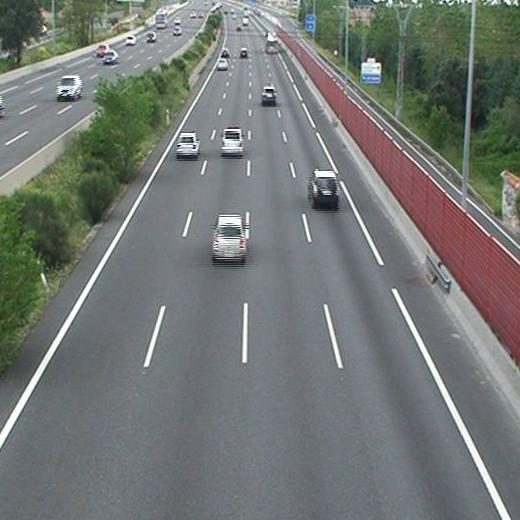car: (212, 215, 246, 261), (308, 171, 338, 206), (221, 127, 243, 153), (177, 133, 199, 157), (262, 87, 276, 105), (216, 60, 227, 72), (240, 48, 249, 58), (221, 48, 229, 58)
tank-truck: (264, 32, 278, 54)
